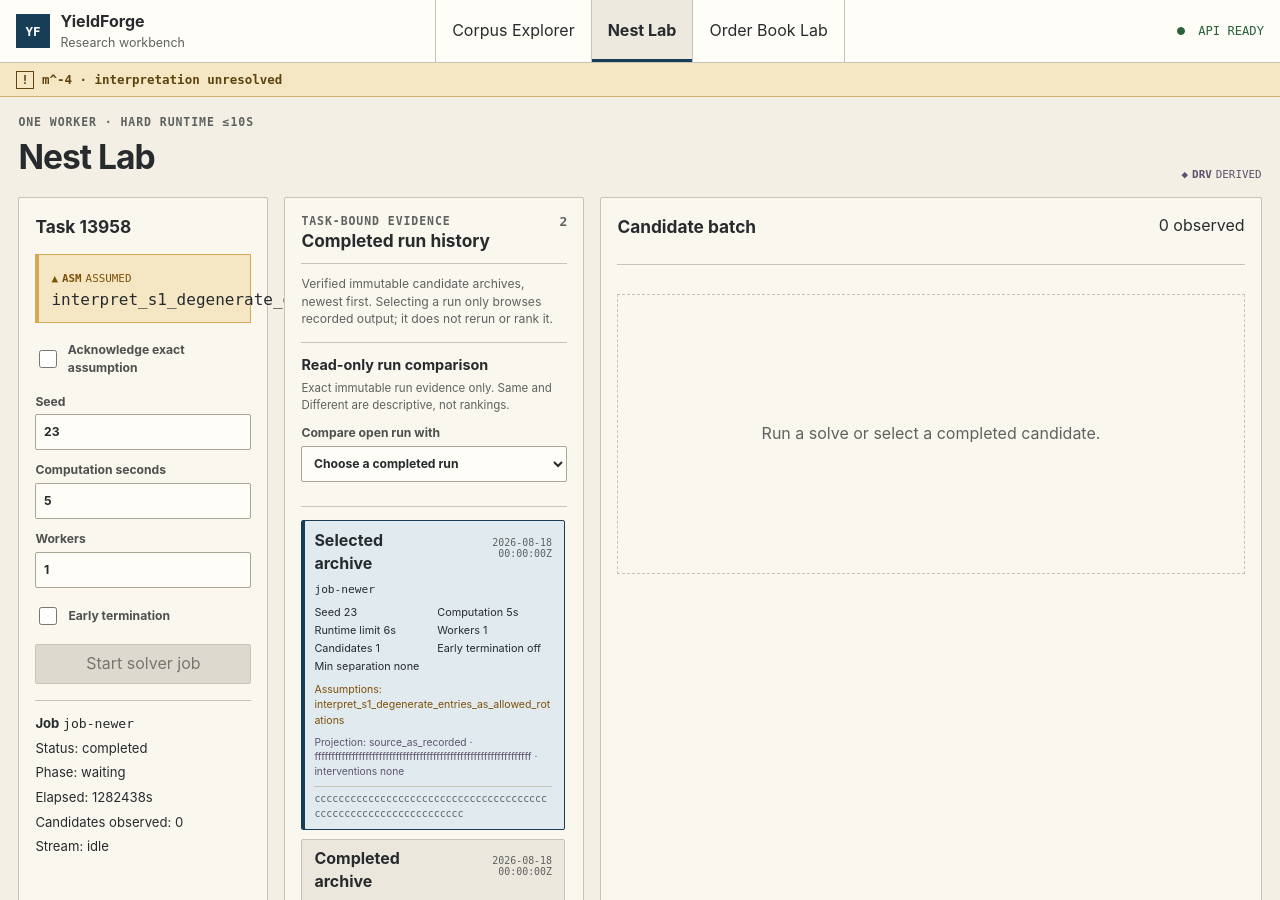
it: research workbench › clears and locks run comparison while a new solver job is active
Select "job-older · seed 23 · 2026-08-18 00:00:00Z" in the dropdown labelled "Compare open run with" at [434, 464], box [301,446,567,482]
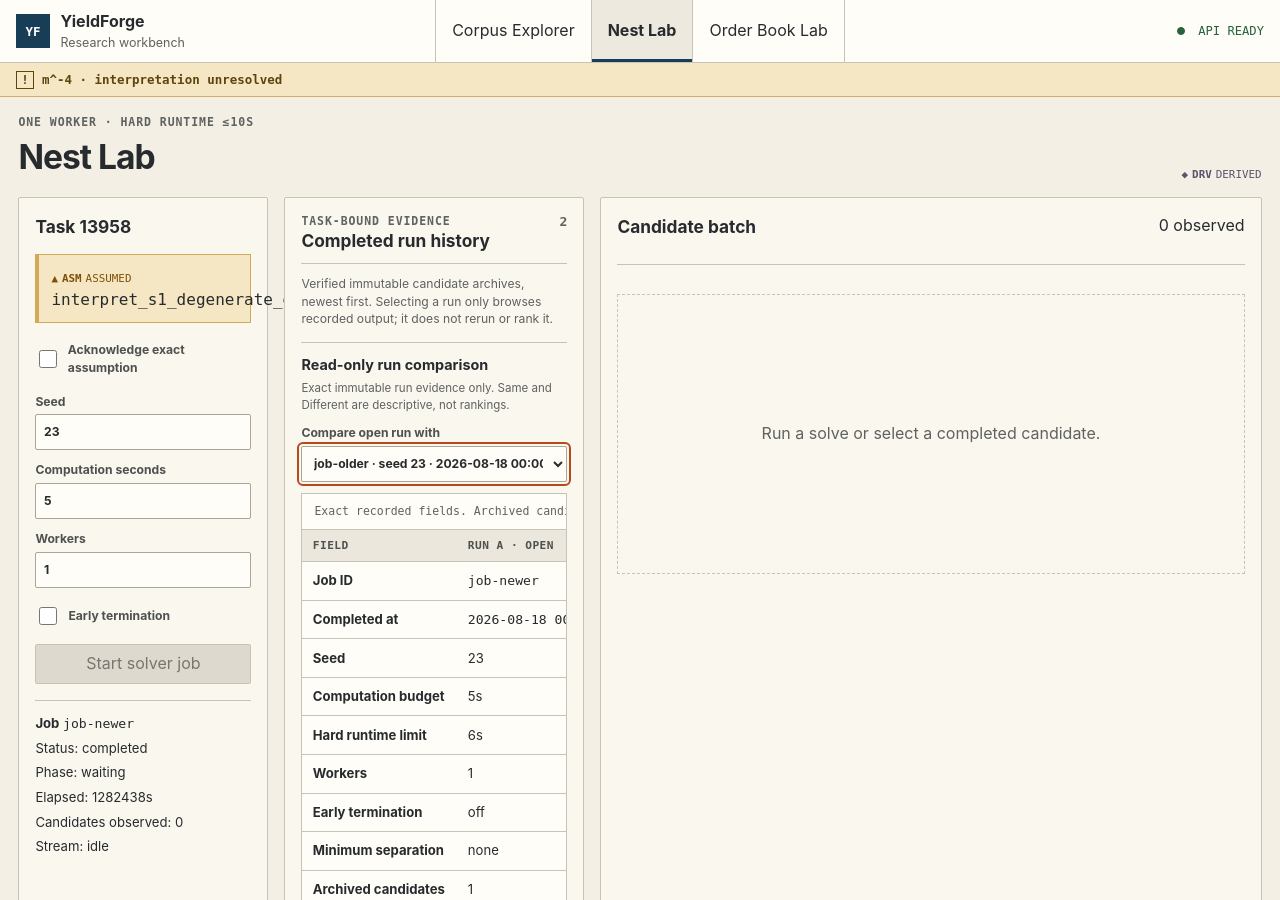
Click the checkbox labelled "Acknowledge exact assumption" at [48, 359], box [39,350,57,368]
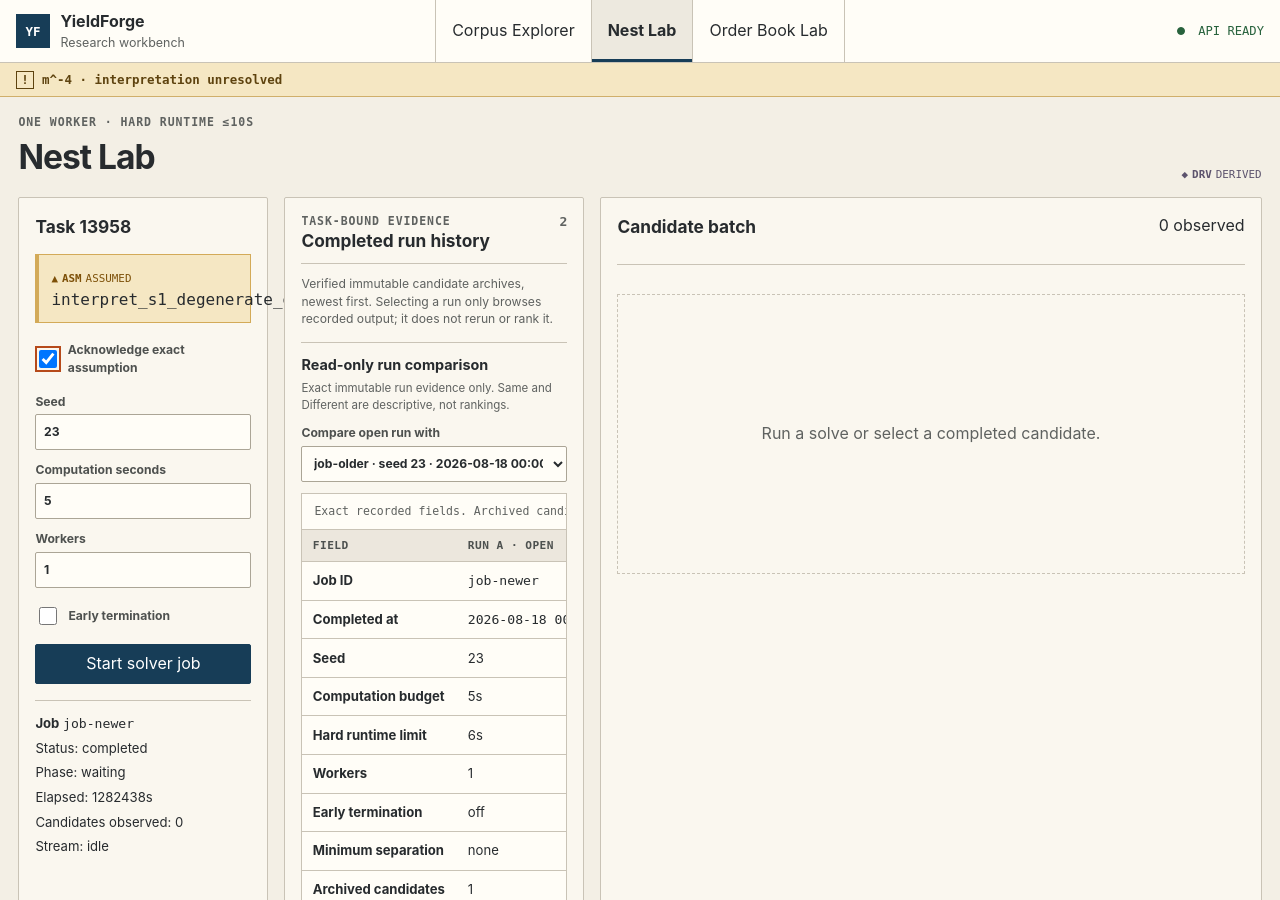
Click the button "Start solver job" at [143, 664], box [35,644,251,684]
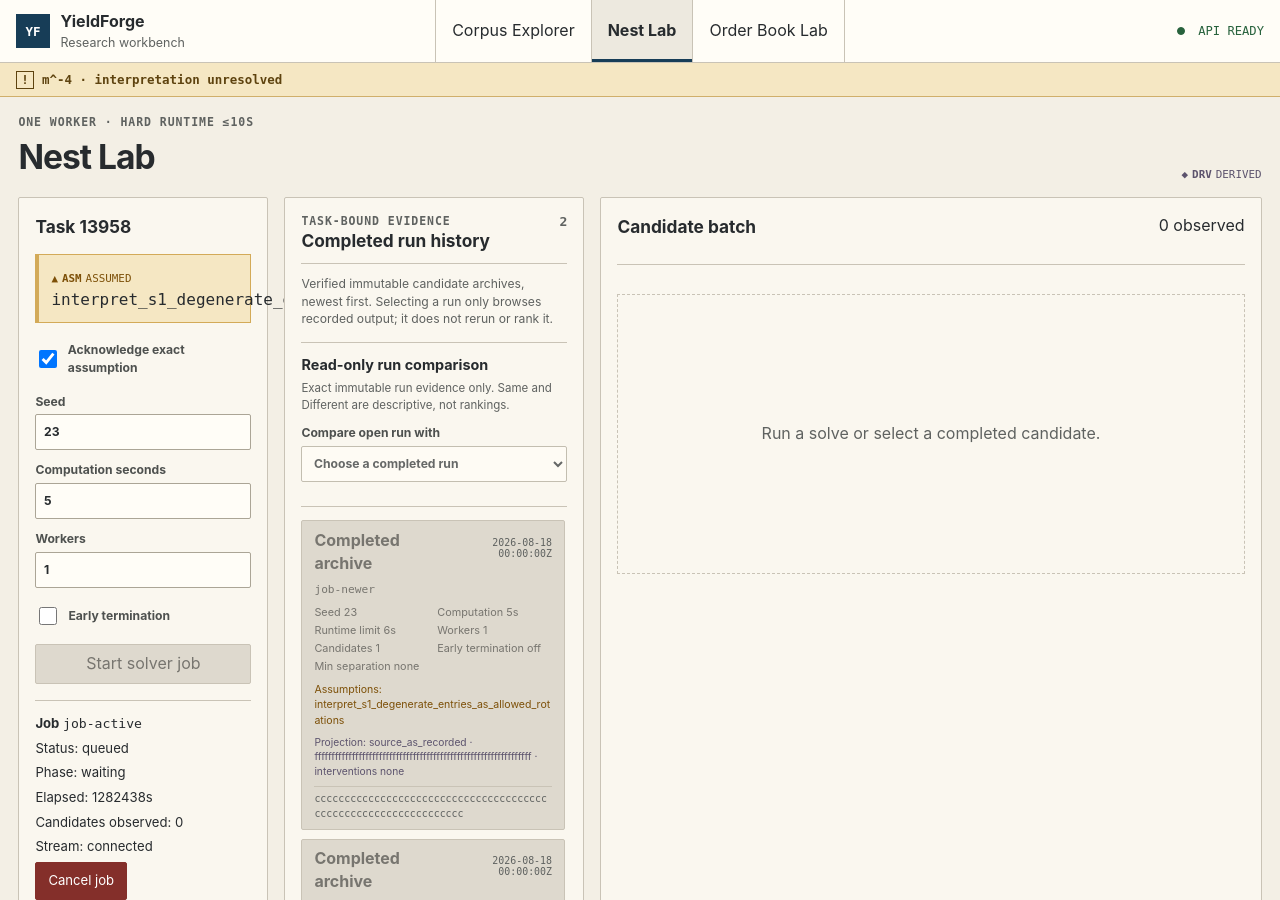
Expected: the dropdown labelled "Compare open run with" is disabled, [301,446,567,482]
